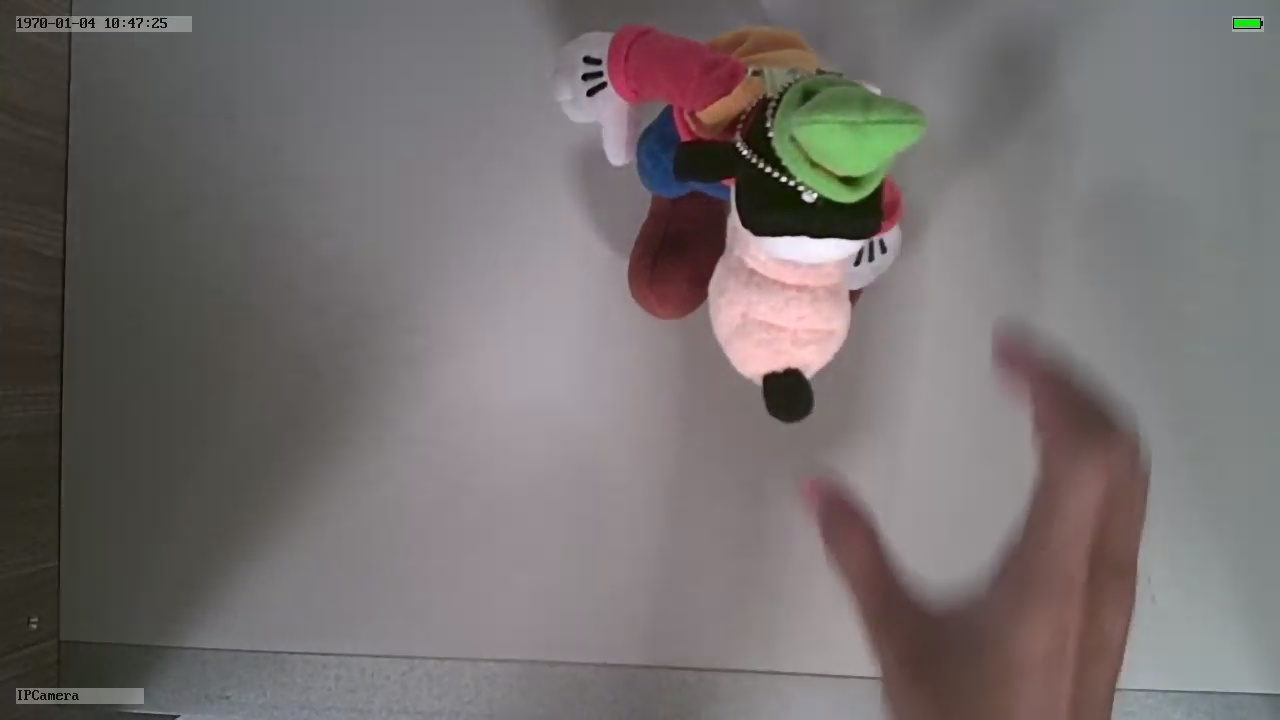goofy: (548, 27, 930, 429)
